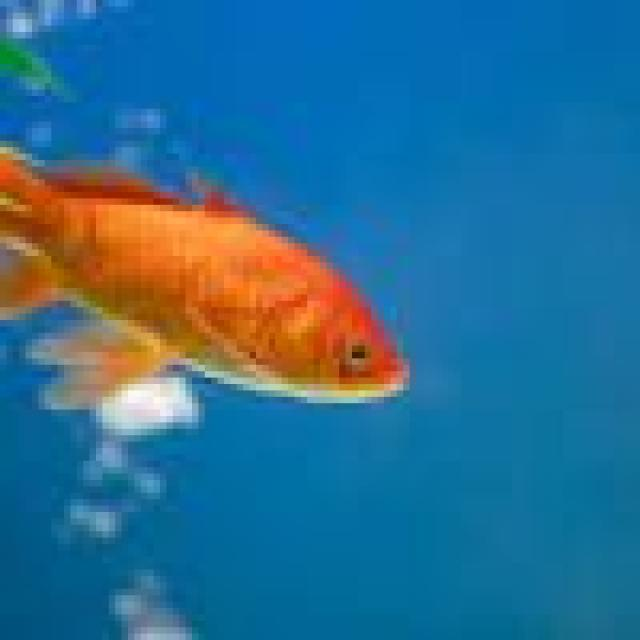Gold-Fish: (0, 88, 514, 482)
